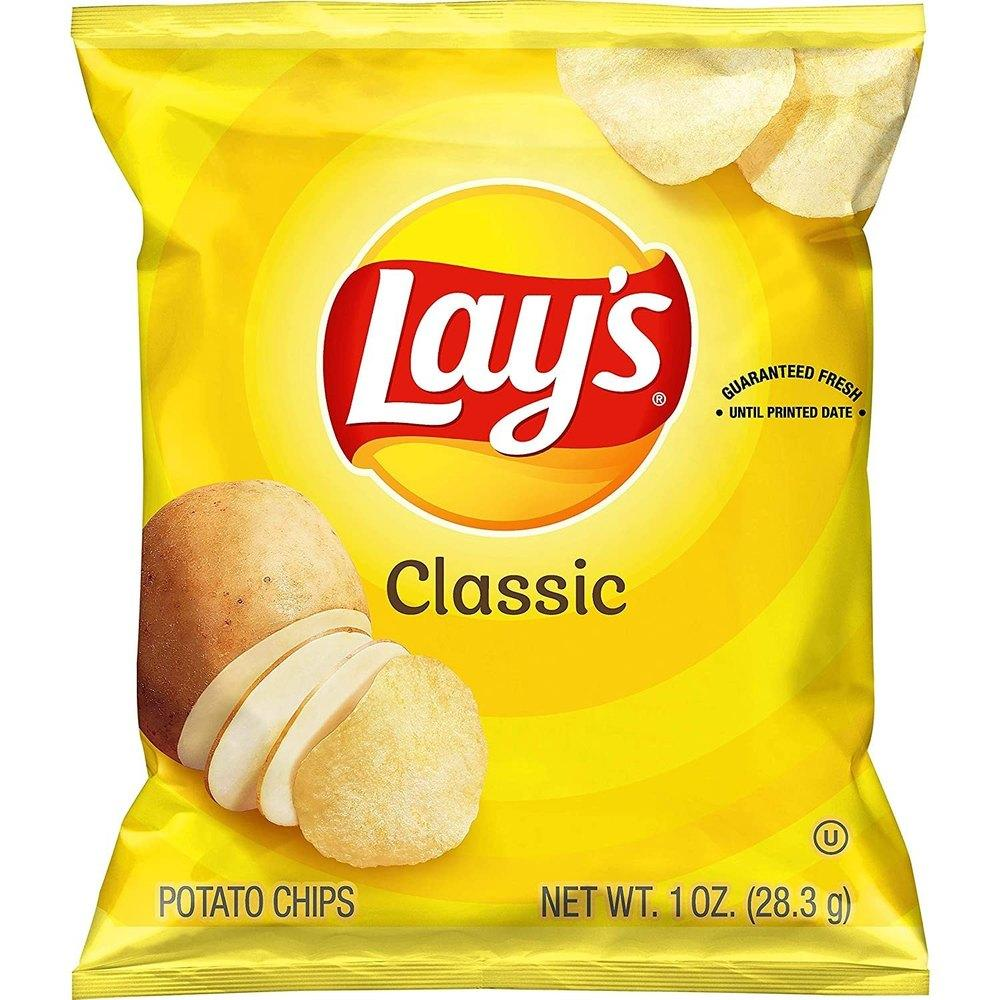Lays: (71, 6, 935, 997)
